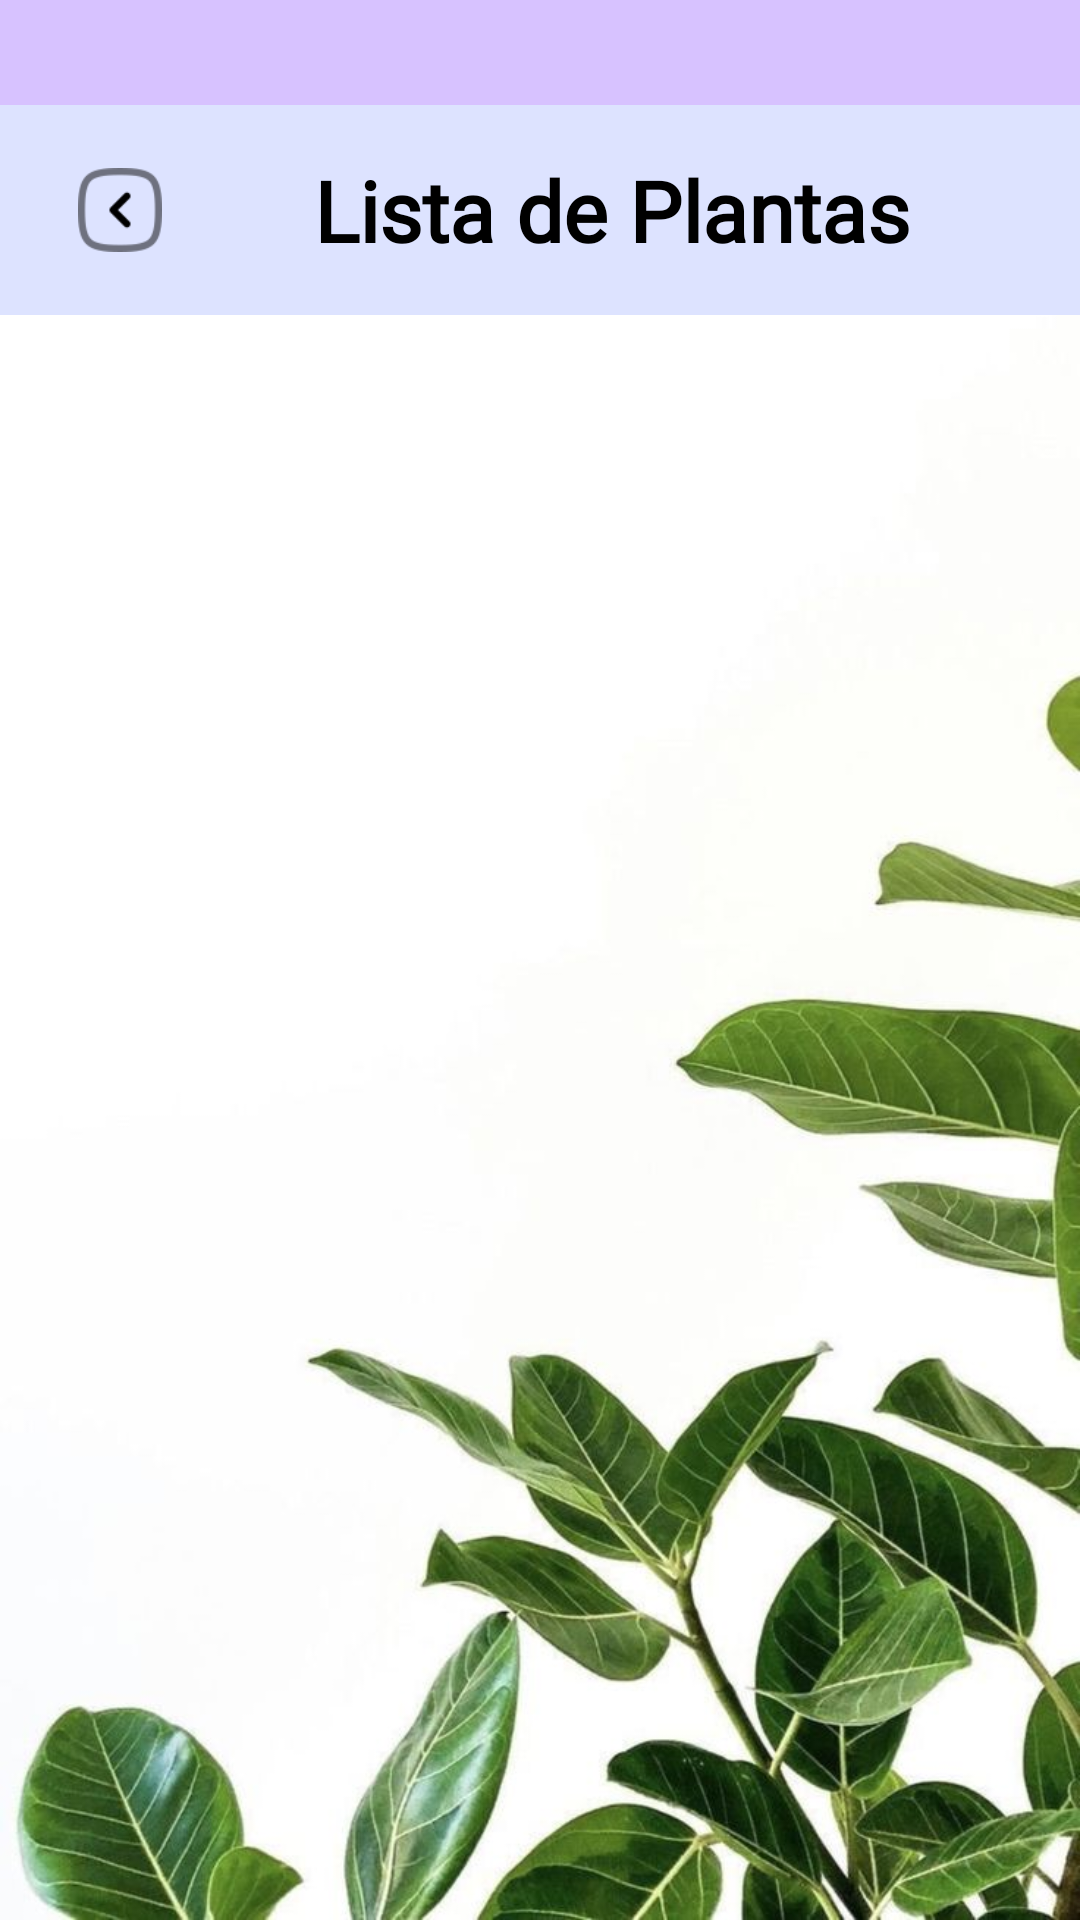

Icons on this 1080 × 1920 Android screen, each with its box as (x1, y1, x2, y2):
flecha regresar: (78, 168, 162, 252)
